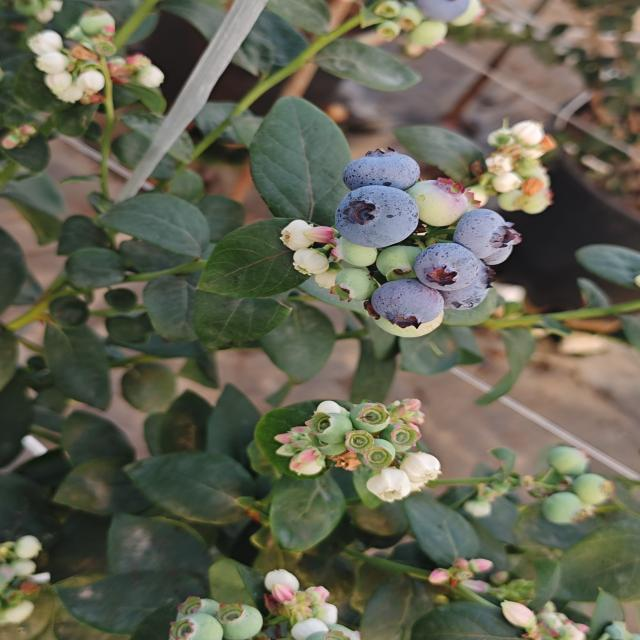ripe: (331, 184, 421, 250), (366, 277, 446, 332), (339, 149, 422, 192), (455, 206, 523, 252), (412, 242, 484, 280), (432, 275, 486, 314)
